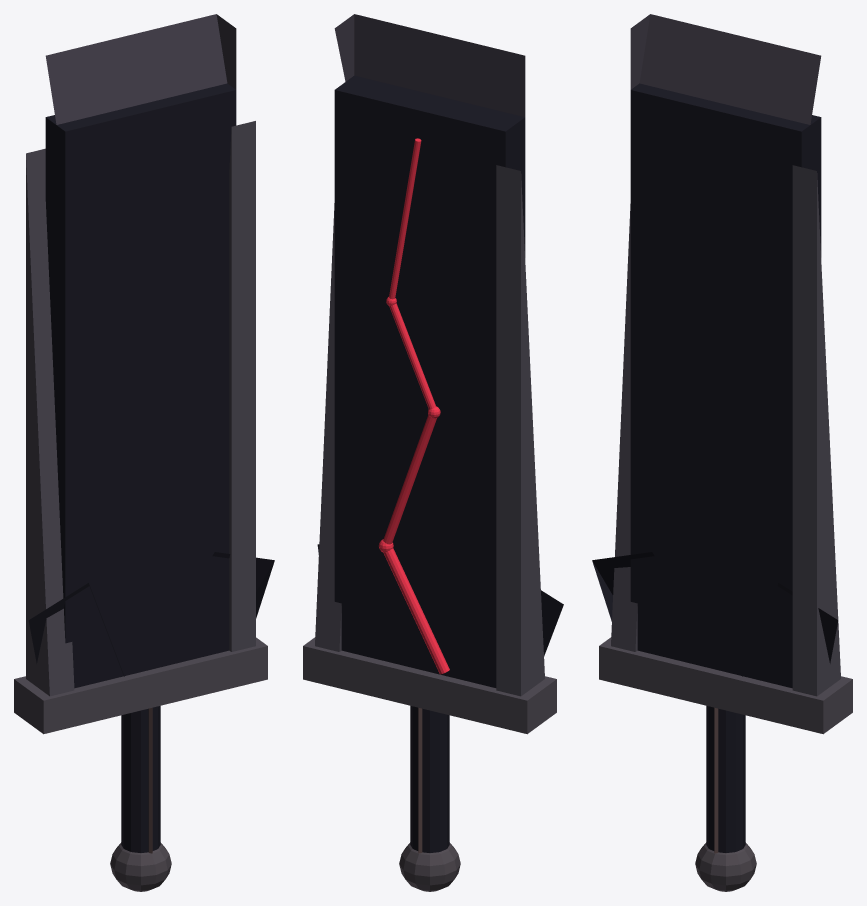
File: AntiSword.obj
The picture shows the model from 3 angles, left to right: view 1: azimuth 30°, elevation 25°; view 2: azimuth 150°, elevation 25°; view 3: azimuth 330°, elevation 25°; orthographic projection.
Parts seen in each view (by area): view 1: AntiSword; view 2: AntiSword; view 3: AntiSword.
Part boxes in pixels (left/top/right/bottom): AntiSword: left=14, top=14, right=274, bottom=891; AntiSword: left=303, top=14, right=563, bottom=891; AntiSword: left=592, top=14, right=852, bottom=891.
Bounding box in the file's own units: 2.31 × 7.58 × 0.5008.
